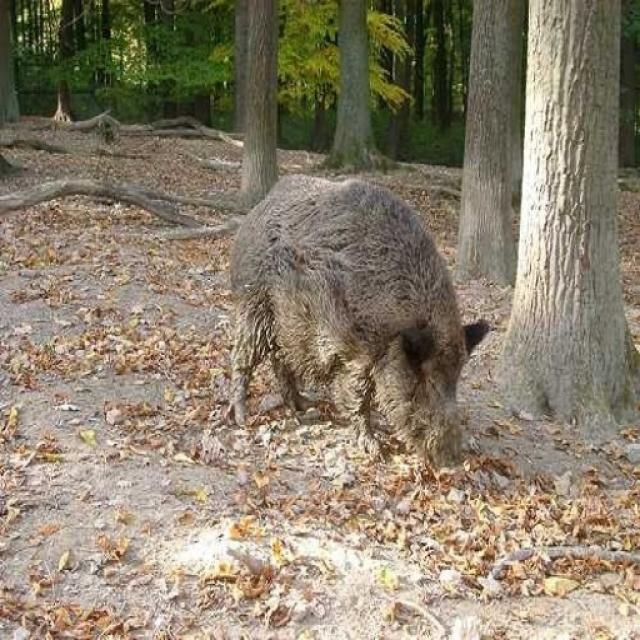pig: (138, 113, 466, 466)
